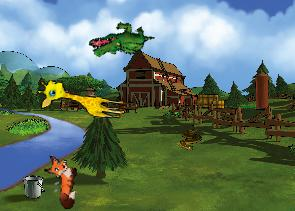crocodile: (86, 10, 155, 72)
fox: (40, 154, 80, 209)
giraffe: (35, 77, 128, 120)
